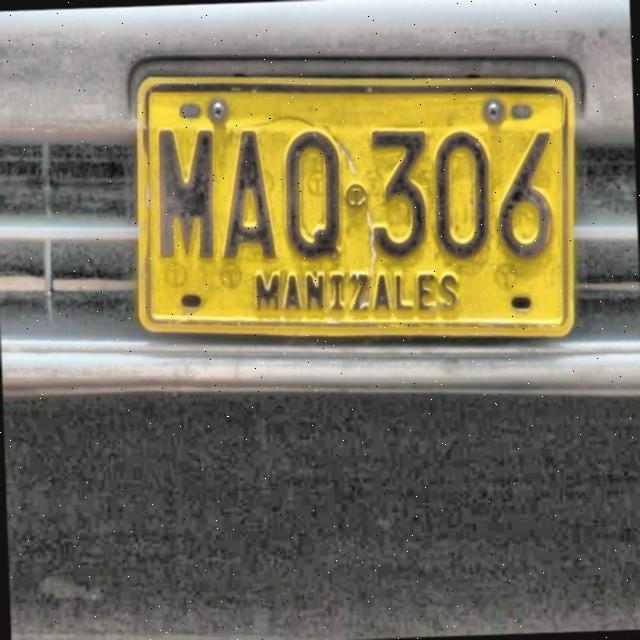plate: (136, 76, 575, 337)
